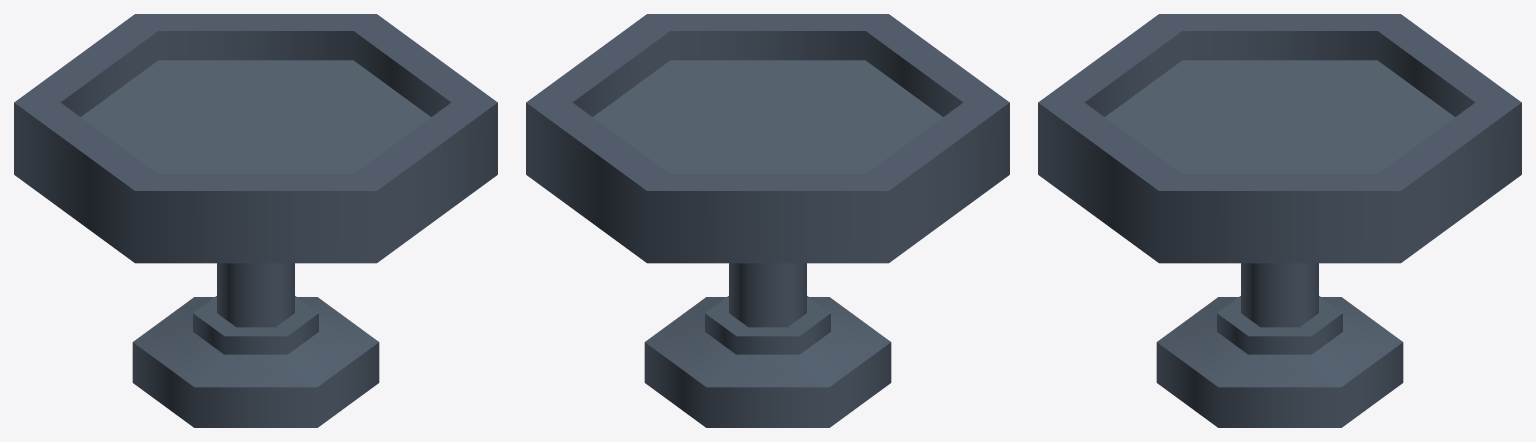
File: FoodProp_1_A.glb
3 views of the same model, side by side, from view 1: azimuth 30°, elevation 25°; view 2: azimuth 150°, elevation 25°; view 3: azimuth 270°, elevation 25° (orthographic).
Visible parts, largest first — view 1: FoodProp_1_A; view 2: FoodProp_1_A; view 3: FoodProp_1_A.
Part boxes in pixels (x1,y1,x2,y2): FoodProp_1_A: [14, 14, 497, 427]; FoodProp_1_A: [526, 14, 1009, 427]; FoodProp_1_A: [1038, 14, 1521, 427].
Bounding box in the file's own units: 0.4995 × 0.3688 × 0.5767.
Materials: 1 (1 with a texture image).
